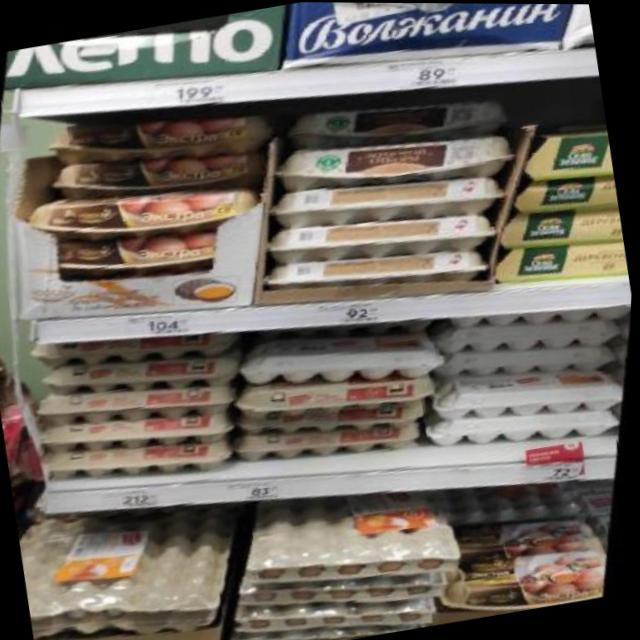Egg: (19, 162, 270, 265), (270, 109, 523, 211), (36, 87, 279, 187), (276, 73, 517, 170), (42, 128, 274, 219), (424, 345, 632, 438), (24, 307, 247, 388), (229, 351, 441, 435), (40, 332, 249, 414), (35, 363, 241, 444), (435, 534, 617, 624), (34, 419, 239, 498), (36, 392, 240, 471), (229, 378, 434, 456), (228, 403, 428, 480), (47, 217, 221, 295), (442, 499, 612, 574)
